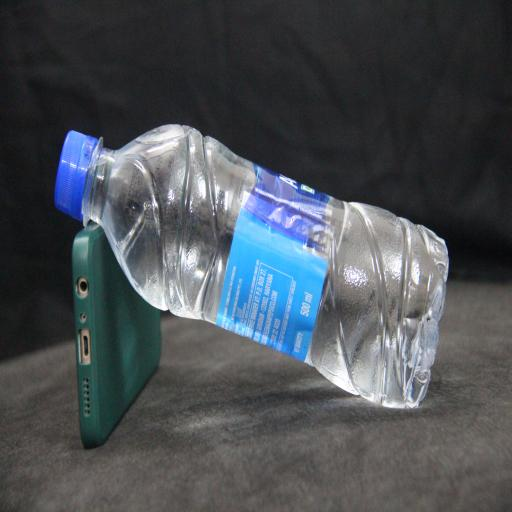Aquafina: (55, 125, 449, 408)
